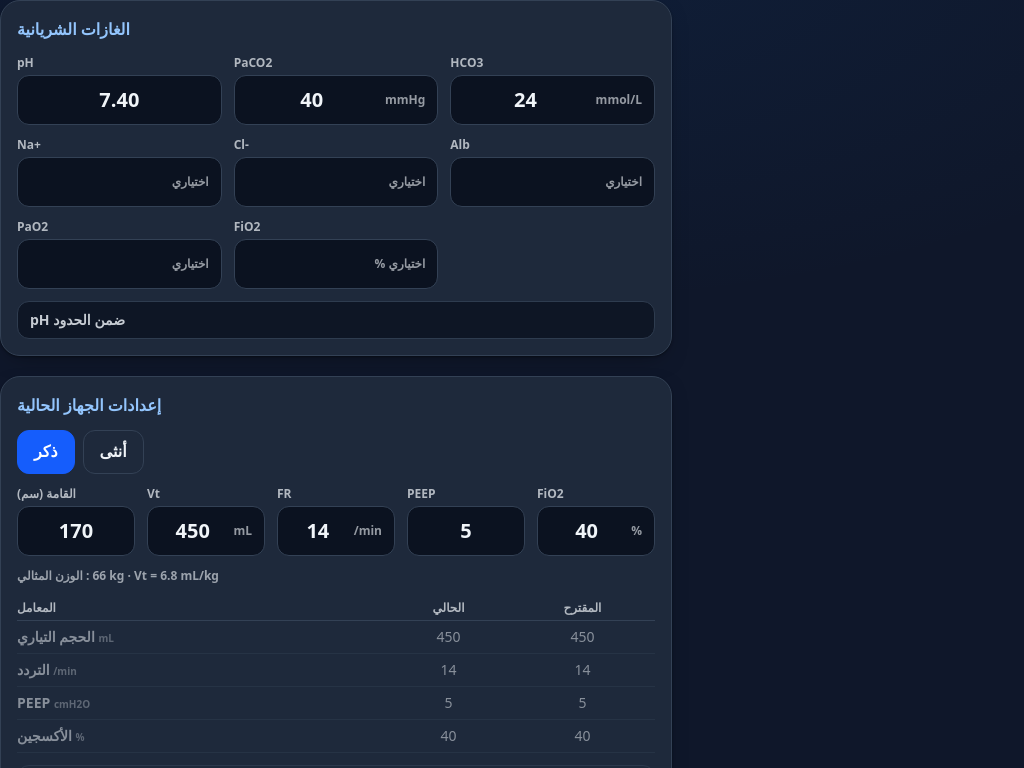
Test case: AbgVent ajustement › يقترح رفع التردد عند الاحتباس الحامضي
Replace the text in the number field labelled "pH" with "7.25" at (119, 100), box [30,86,209,114]
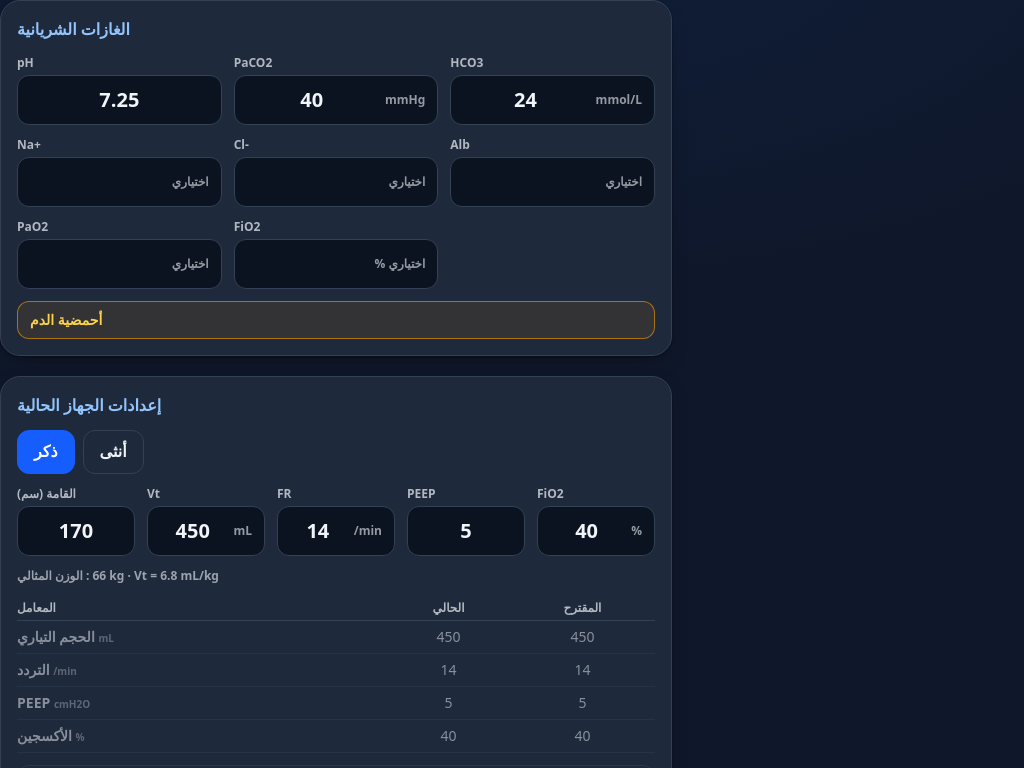
Replace the text in the number field labelled "PaCO2 mmHg" with "60" at (312, 100), box [247,86,377,114]
(page scrolled)
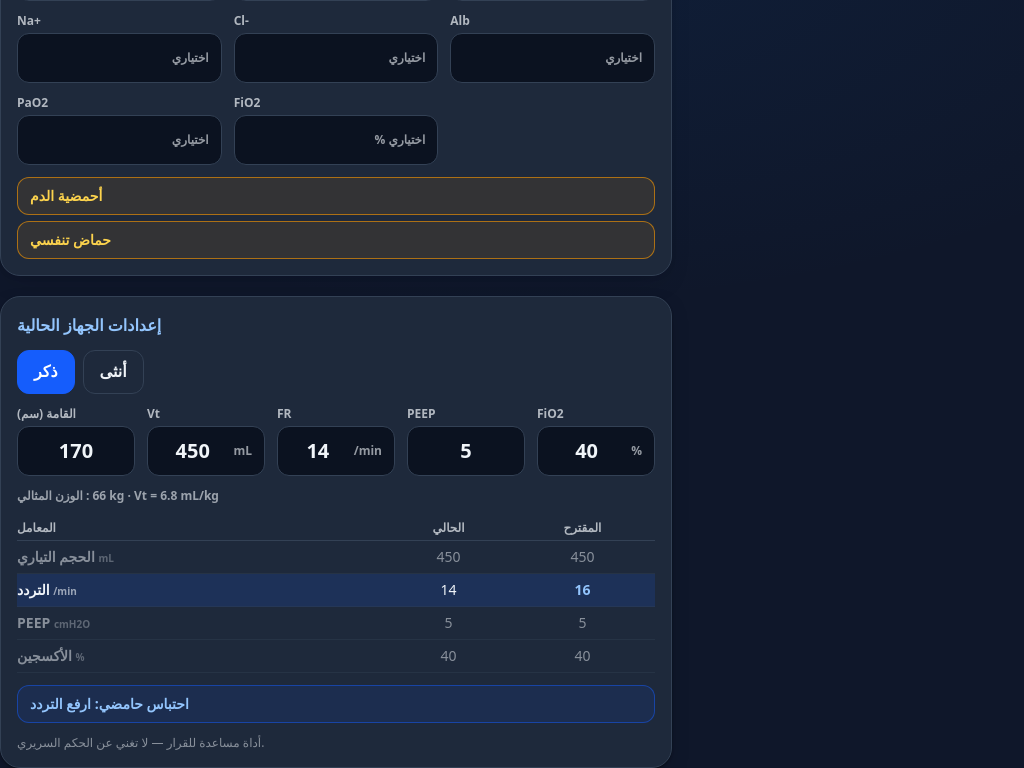
expect the text "احتباس حامضي: ارفع التردد" is shown: met, box [17,685,655,723]
